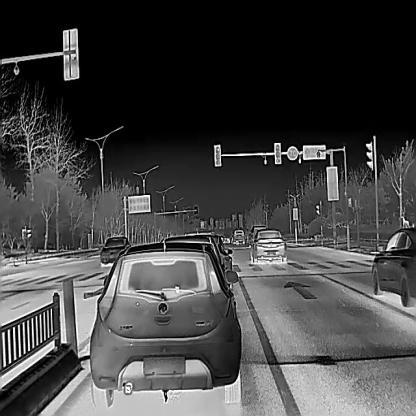car: (85, 241, 241, 407), (370, 227, 415, 306), (161, 235, 232, 276), (183, 231, 232, 259), (249, 230, 287, 262), (99, 235, 131, 264), (248, 225, 265, 247)
truck: (232, 228, 245, 245)
